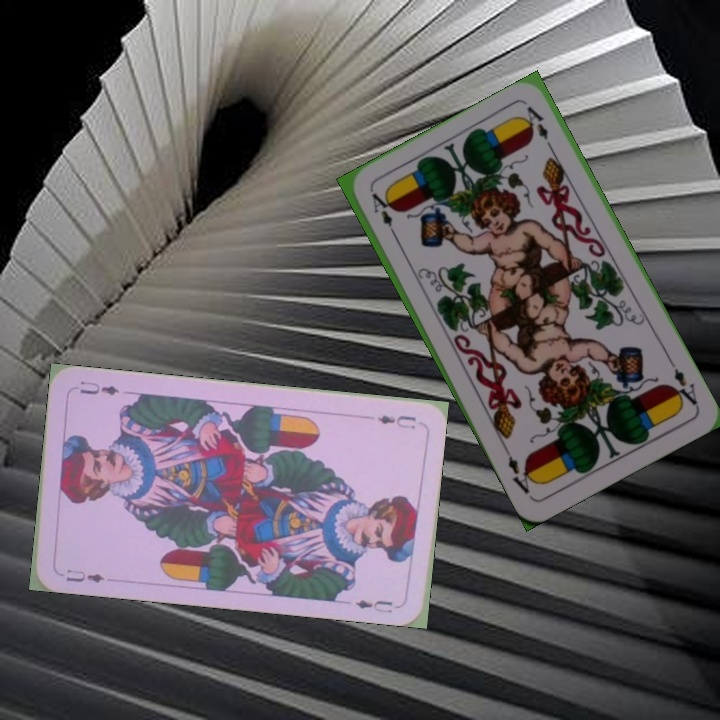EA: (665, 356, 701, 409), (367, 189, 401, 242)
EU: (373, 411, 419, 432), (62, 565, 107, 585)
